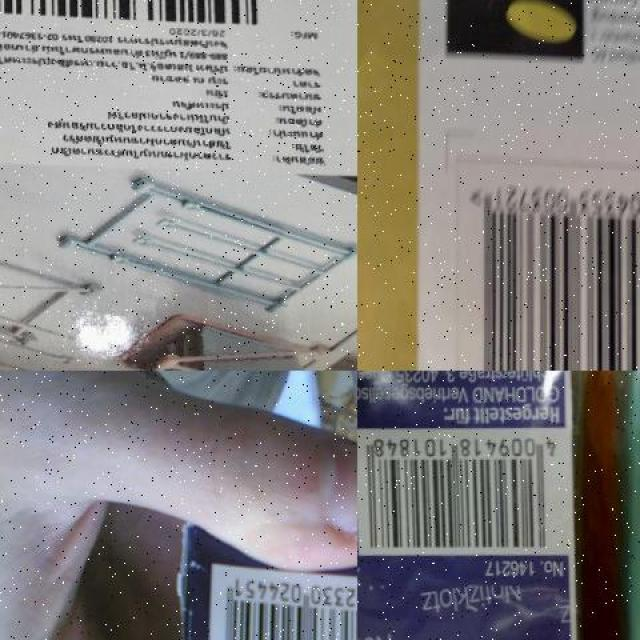Barcode: (441, 129, 640, 371), (358, 416, 570, 559), (203, 564, 357, 640), (0, 0, 272, 25)
